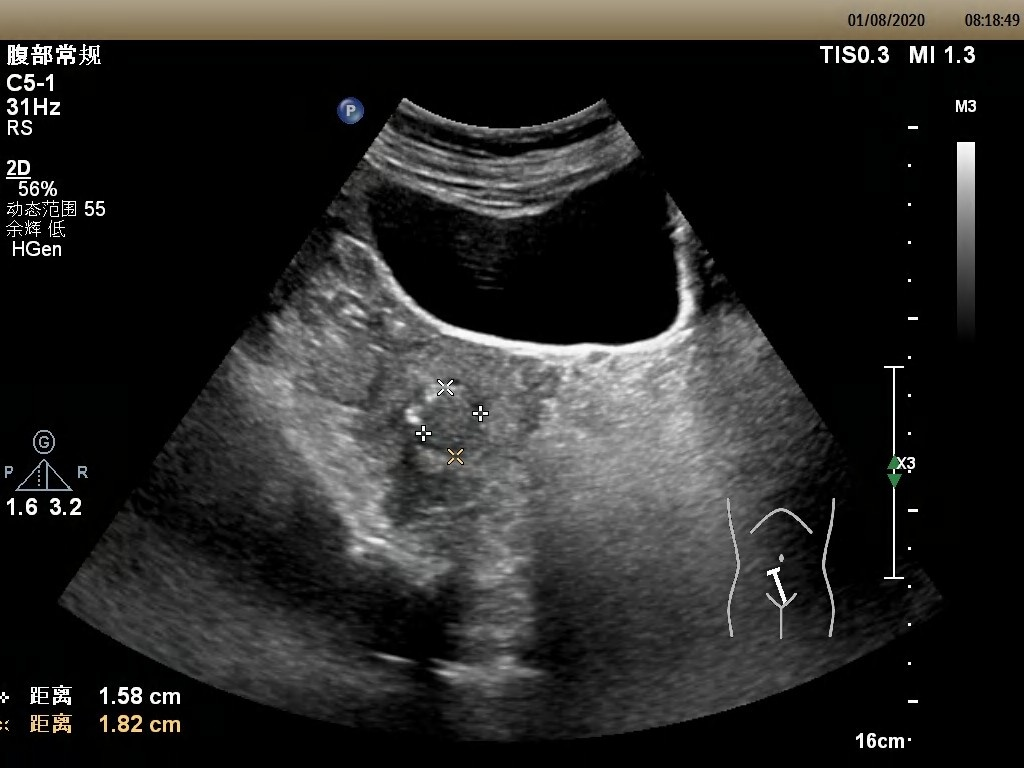肌瘤: (416, 387, 478, 449)
